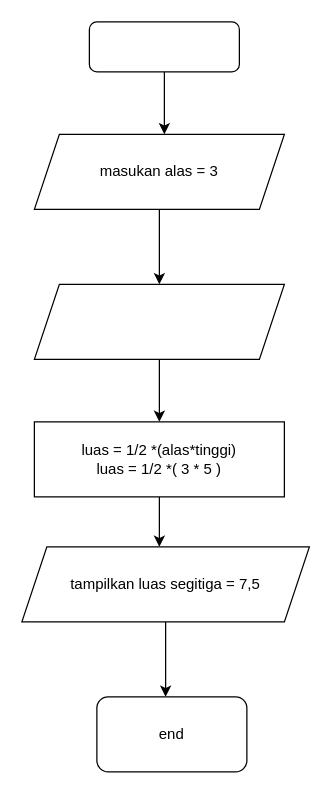
Some shapes in this 331 by 794 pixel diagram are drawn without their labels. The centre of each missing label's shape, as x and y in pixels:
masukan tinggi = 5: the point at 158,321
start: the point at 163,46
